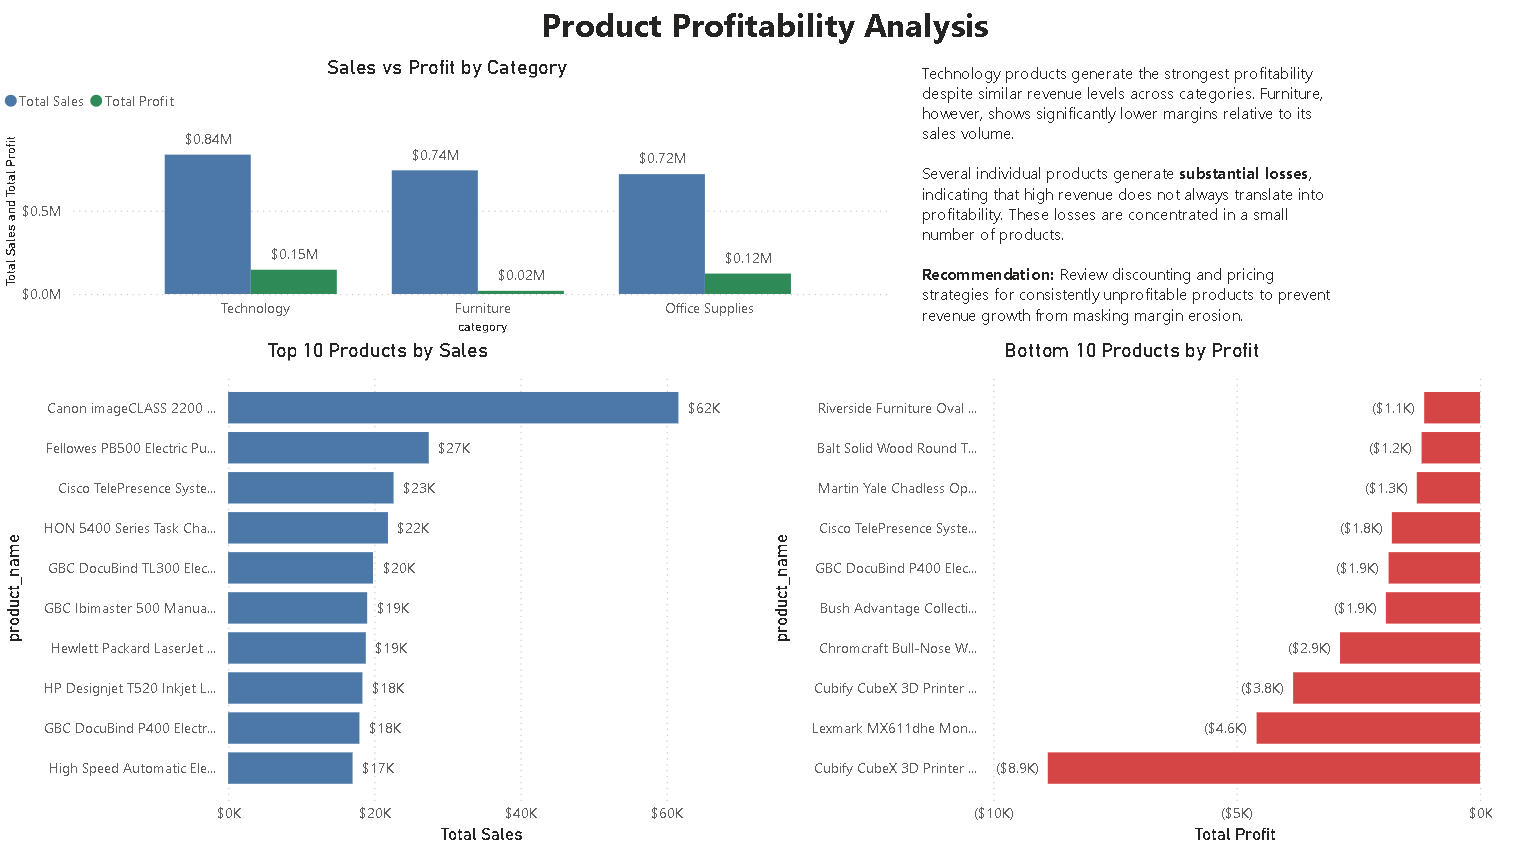

The page's visual inventory and layout, read from the dashboard file:
{"tool":"powerbi","page":{"name":"Product Profitability Analysis","canvas":[1280,720],"ordinal":2},"visuals":[{"type":"textbox","box":[293.6,0,706.4,50.9],"z":0},{"type":"clusteredColumnChart","title":"Sales vs Profit by Category","fields":{"Category":["dim_product.category"],"Y":["_Measures.Total Sales","_Measures.Total Profit"]},"box":[0,50.2,758.2,239.5],"z":1000},{"type":"clusteredBarChart","title":"Top 10 Products by Sales","fields":{"Category":["dim_product.product_name"],"Y":["_Measures.Total Sales"]},"box":[0,289.2,640,430.8],"z":2000},{"type":"clusteredBarChart","title":"Bottom 10 Products by Profit","fields":{"Category":["dim_product.product_name"],"Y":["_Measures.Total Profit"]},"box":[647.3,289.2,617,430.8],"z":3000},{"type":"textbox","box":[773.9,51.2,363.9,238.4],"z":4000}]}

Visuals, with their boxes in screenshot pixels (x1, y1, x2, y2), scaled from the page's 1280x720 canvas onto the 1515x846 screenshot:
textbox: left=348, top=0, right=1184, bottom=60
"Sales vs Profit by Category" clusteredColumnChart: left=0, top=59, right=897, bottom=340
"Top 10 Products by Sales" clusteredBarChart: left=0, top=340, right=758, bottom=845
"Bottom 10 Products by Profit" clusteredBarChart: left=766, top=340, right=1496, bottom=845
textbox: left=916, top=60, right=1347, bottom=340
